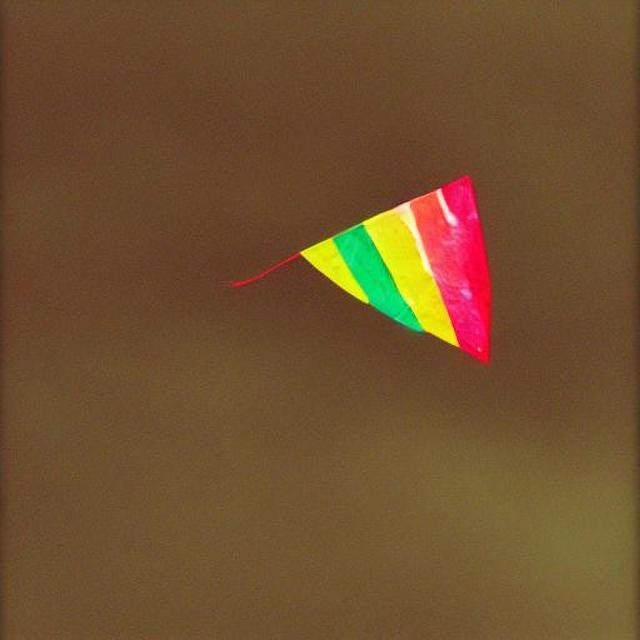floating object: (232, 176, 499, 365)
